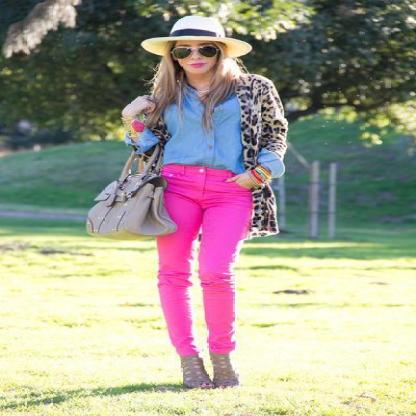bag: (85, 150, 177, 240)
hat: (141, 14, 250, 66)
jacket: (131, 76, 286, 235)
pants: (156, 164, 263, 360)
shirt: (125, 92, 284, 174)
shoe: (180, 354, 238, 390)
sunglass: (165, 40, 207, 58)
